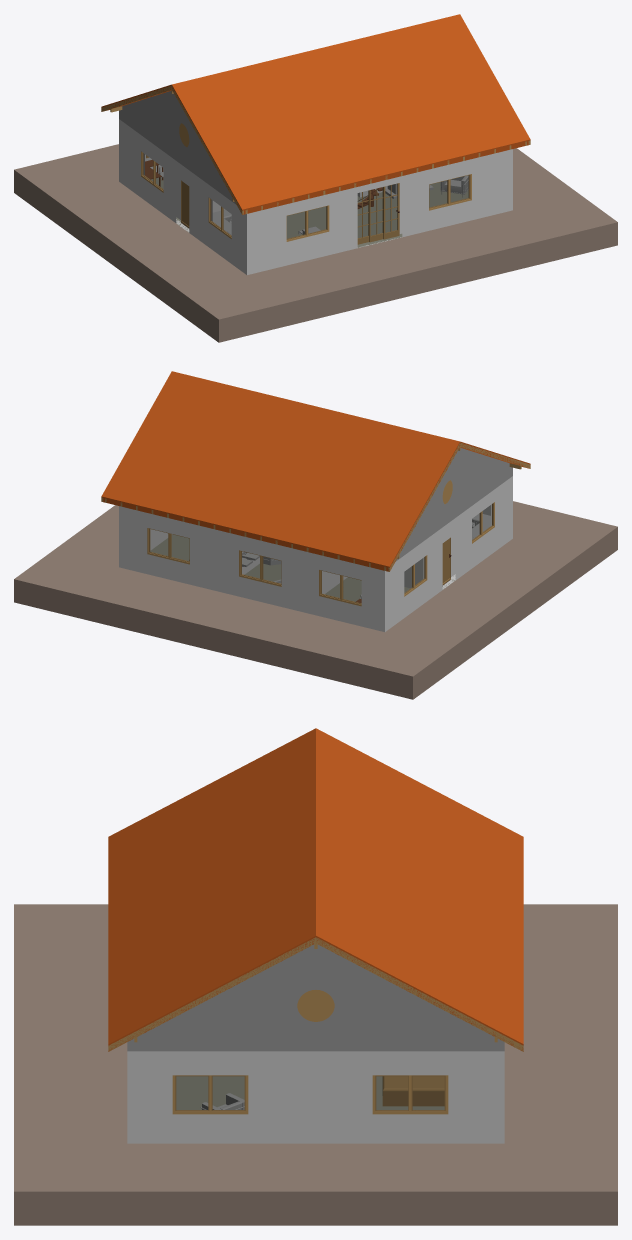
The model's file is AC14-FZK-Haus.obj.
3 renders of one model, top to bottom at view 1: azimuth 30°, elevation 25°; view 2: azimuth 150°, elevation 25°; view 3: azimuth 270°, elevation 25°, orthographic. The views are drawn at different scales.
Visible parts, largest first — view 1: IfcSite_Gel\S\dnde, IfcSlab_Dach-2, IfcWallStandardCase_Wand-Ext-ERDG-4, IfcWallStandardCase_Wand-Ext-ERDG-1, IfcMappedItem, IfcWallStandardCase_Wand-Ext-OG-1, IfcSlab_Bodenplatte, IfcDoor_Terrassentuer; view 2: IfcSite_Gel\S\dnde, IfcSlab_Dach-1, IfcWallStandardCase_Wand-Ext-ERDG-2, IfcWallStandardCase_Wand-Ext-ERDG-1, IfcMappedItem, IfcWallStandardCase_Wand-Ext-OG-1, IfcSlab_Bodenplatte; view 3: IfcSite_Gel\S\dnde, IfcSlab_Dach-1, IfcSlab_Dach-2, IfcWallStandardCase_Wand-Ext-ERDG-3, IfcWallStandardCase_Wand-Ext-OG-3, IfcMappedItem, IfcSlab_Bodenplatte, IfcFurnishingElement_Doppelbett, IfcWindow_OG-Fenster-1.
Boxes of the visible parts, x1=… form: IfcSite_Gel\S\dnde: x1=14, y1=144, x2=617, y2=342; IfcSlab_Dach-2: x1=172, y1=14, x2=530, y2=214; IfcWallStandardCase_Wand-Ext-ERDG-4: x1=247, y1=149, x2=512, y2=274; IfcWallStandardCase_Wand-Ext-ERDG-1: x1=119, y1=119, x2=246, y2=274; IfcMappedItem: x1=110, y1=86, x2=530, y2=241; IfcWallStandardCase_Wand-Ext-OG-1: x1=119, y1=91, x2=236, y2=204; IfcSlab_Bodenplatte: x1=151, y1=177, x2=468, y2=247; IfcDoor_Terrassentuer: x1=357, y1=183, x2=399, y2=244; IfcSite_Gel\S\dnde: x1=14, y1=501, x2=617, y2=699; IfcSlab_Dach-1: x1=101, y1=371, x2=459, y2=571; IfcWallStandardCase_Wand-Ext-ERDG-2: x1=119, y1=506, x2=384, y2=631; IfcWallStandardCase_Wand-Ext-ERDG-1: x1=385, y1=476, x2=512, y2=631; IfcMappedItem: x1=101, y1=442, x2=530, y2=606; IfcWallStandardCase_Wand-Ext-OG-1: x1=395, y1=448, x2=512, y2=561; IfcSlab_Bodenplatte: x1=150, y1=534, x2=454, y2=601; IfcSite_Gel\S\dnde: x1=14, y1=904, x2=617, y2=1225; IfcSlab_Dach-1: x1=316, y1=728, x2=523, y2=1051; IfcSlab_Dach-2: x1=108, y1=728, x2=315, y2=1051; IfcWallStandardCase_Wand-Ext-ERDG-3: x1=127, y1=1051, x2=504, y2=1143; IfcWallStandardCase_Wand-Ext-OG-3: x1=127, y1=944, x2=504, y2=1051; IfcMappedItem: x1=108, y1=937, x2=523, y2=1114; IfcSlab_Bodenplatte: x1=176, y1=1076, x2=444, y2=1109; IfcFurnishingElement_Doppelbett: x1=382, y1=1076, x2=444, y2=1106; IfcWindow_OG-Fenster-1: x1=297, y1=990, x2=334, y2=1021.
Bounding box in the file's own units: 18 × 7.32 × 16.
